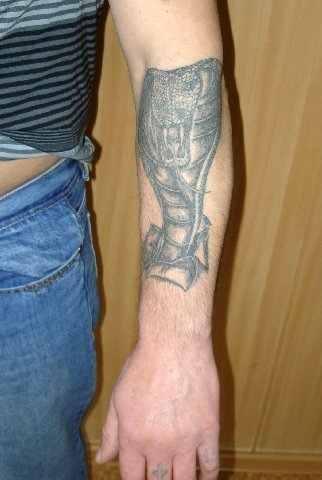tatu7_zmeya: (126, 41, 230, 287)
